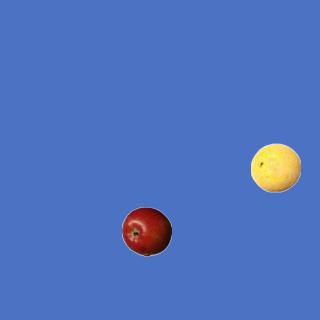Apple Braeburn: (121, 206, 171, 256)
Cantaloupe 1: (250, 142, 300, 192)
